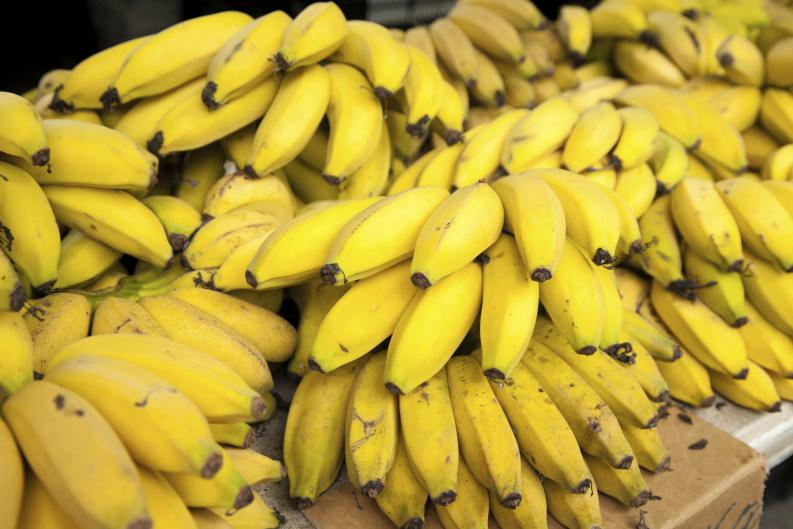banana: (50, 351, 222, 468), (348, 288, 484, 399), (106, 15, 262, 107), (445, 378, 536, 507), (237, 62, 329, 186), (273, 373, 360, 504), (547, 337, 664, 432), (147, 294, 268, 383), (511, 390, 596, 508), (399, 191, 509, 282), (659, 296, 758, 392), (328, 187, 428, 279), (677, 167, 752, 287), (61, 195, 176, 273), (243, 202, 336, 290), (327, 68, 389, 196), (497, 175, 565, 290), (57, 122, 161, 189), (400, 386, 454, 508), (499, 90, 582, 164), (547, 265, 605, 365), (284, 1, 351, 75), (570, 169, 619, 265), (562, 98, 629, 168), (358, 29, 414, 106), (712, 36, 767, 94), (617, 105, 658, 171)
